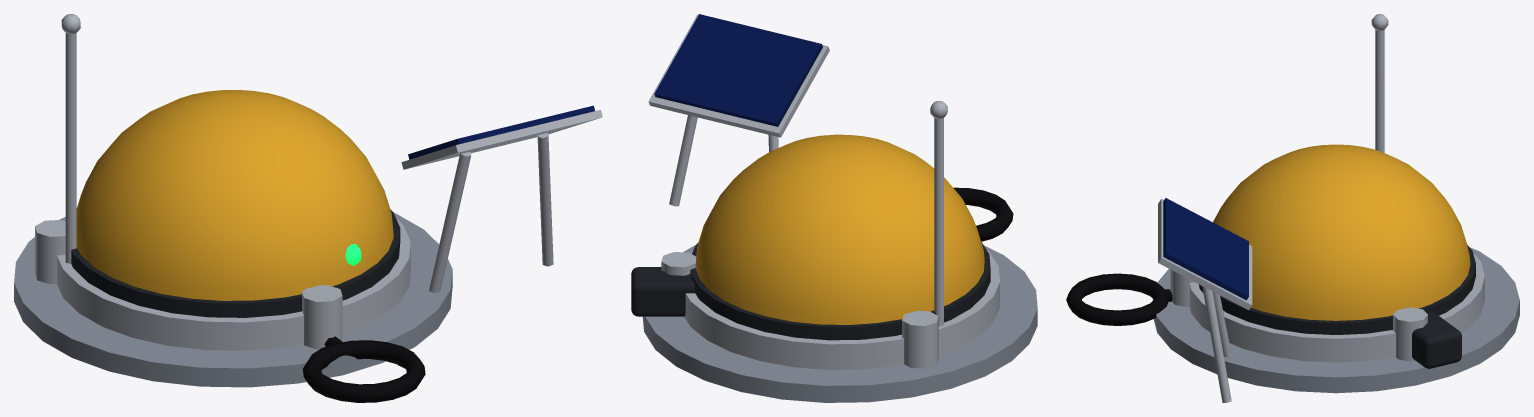
The model's file is seismometer_deployed.glb.
3 views of the same model, side by side, from view 1: azimuth 30°, elevation 25°; view 2: azimuth 150°, elevation 25°; view 3: azimuth 270°, elevation 25° (orthographic). The views are drawn at different scales.
Parts seen in each view (by area): view 1: SeisDep_Body; view 2: SeisDep_Body; view 3: SeisDep_Body.
Boxes of the visible parts, bbox=[...] form: SeisDep_Body: bbox=[14, 14, 602, 402]; SeisDep_Body: bbox=[631, 14, 1037, 402]; SeisDep_Body: bbox=[1066, 14, 1519, 402].
Bounding box in the file's own units: 1 × 0.62 × 1.04.
